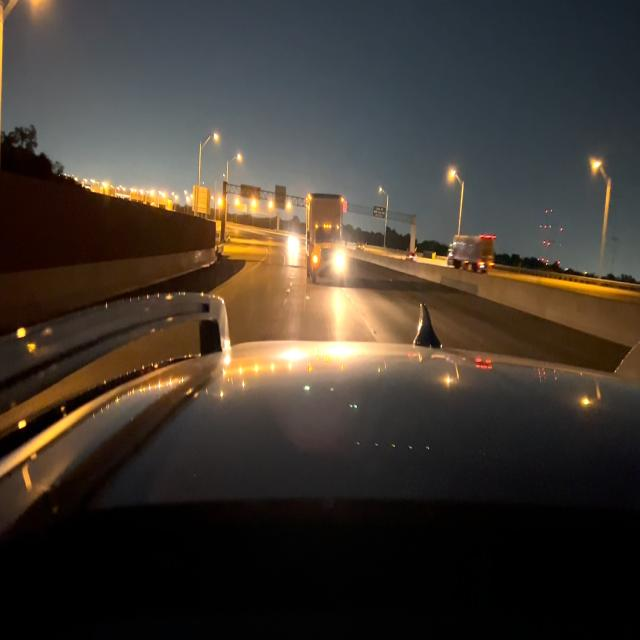back-of-sign: (193, 186, 211, 216)
